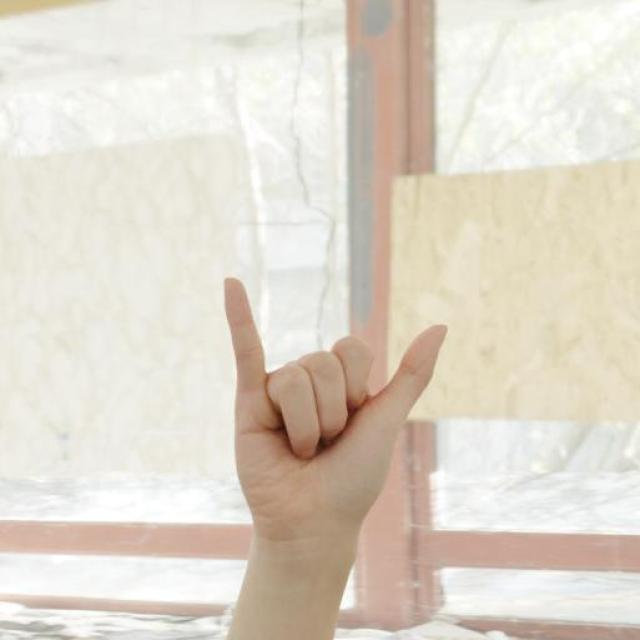Y: (205, 274, 460, 588)
